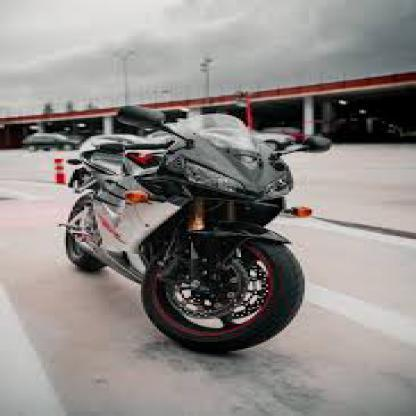Motorcycle: (52, 95, 331, 361)
